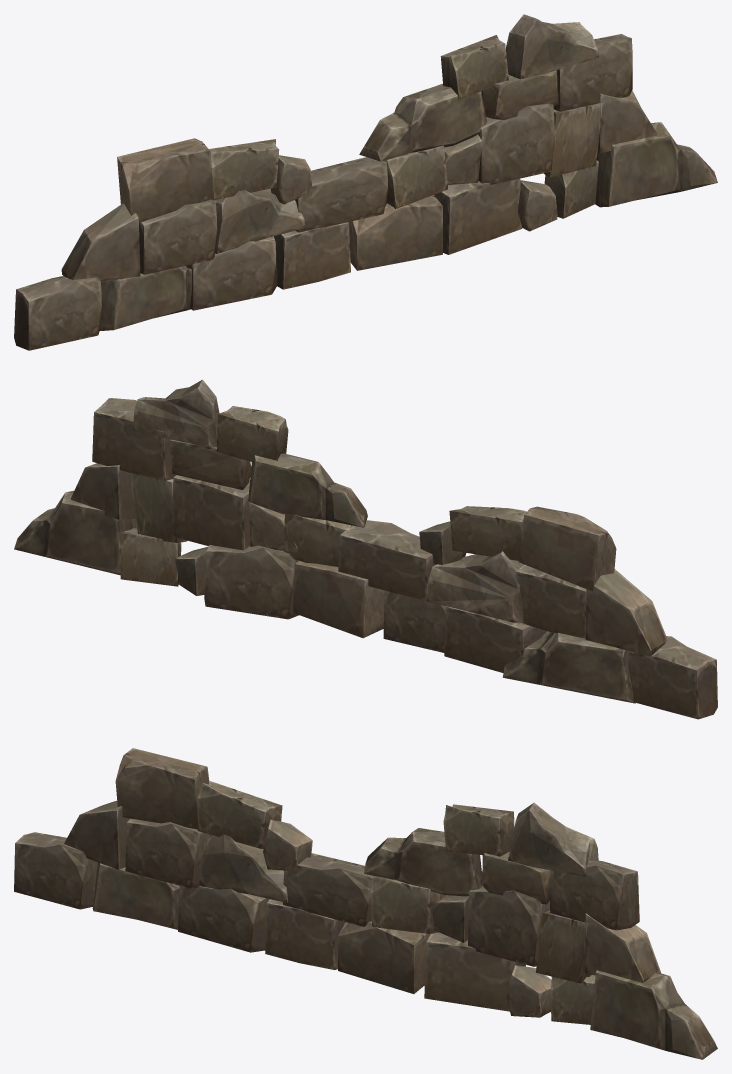
The model's file is nashgar_object_ruinswall_b.FBX.
3 views of the same model, one above another, from view 1: azimuth 30°, elevation 25°; view 2: azimuth 150°, elevation 25°; view 3: azimuth 330°, elevation 25° (orthographic).
Parts seen in each view (by area): view 1: nashgar_object_ruinswall_b; view 2: nashgar_object_ruinswall_b; view 3: nashgar_object_ruinswall_b.
Boxes of the visible parts, x1,y1,x2,y2 form: nashgar_object_ruinswall_b: [14, 14, 717, 350]; nashgar_object_ruinswall_b: [14, 379, 717, 719]; nashgar_object_ruinswall_b: [14, 748, 717, 1059].
Bounding box in the file's own units: 13.5 × 3.85 × 1.02.
